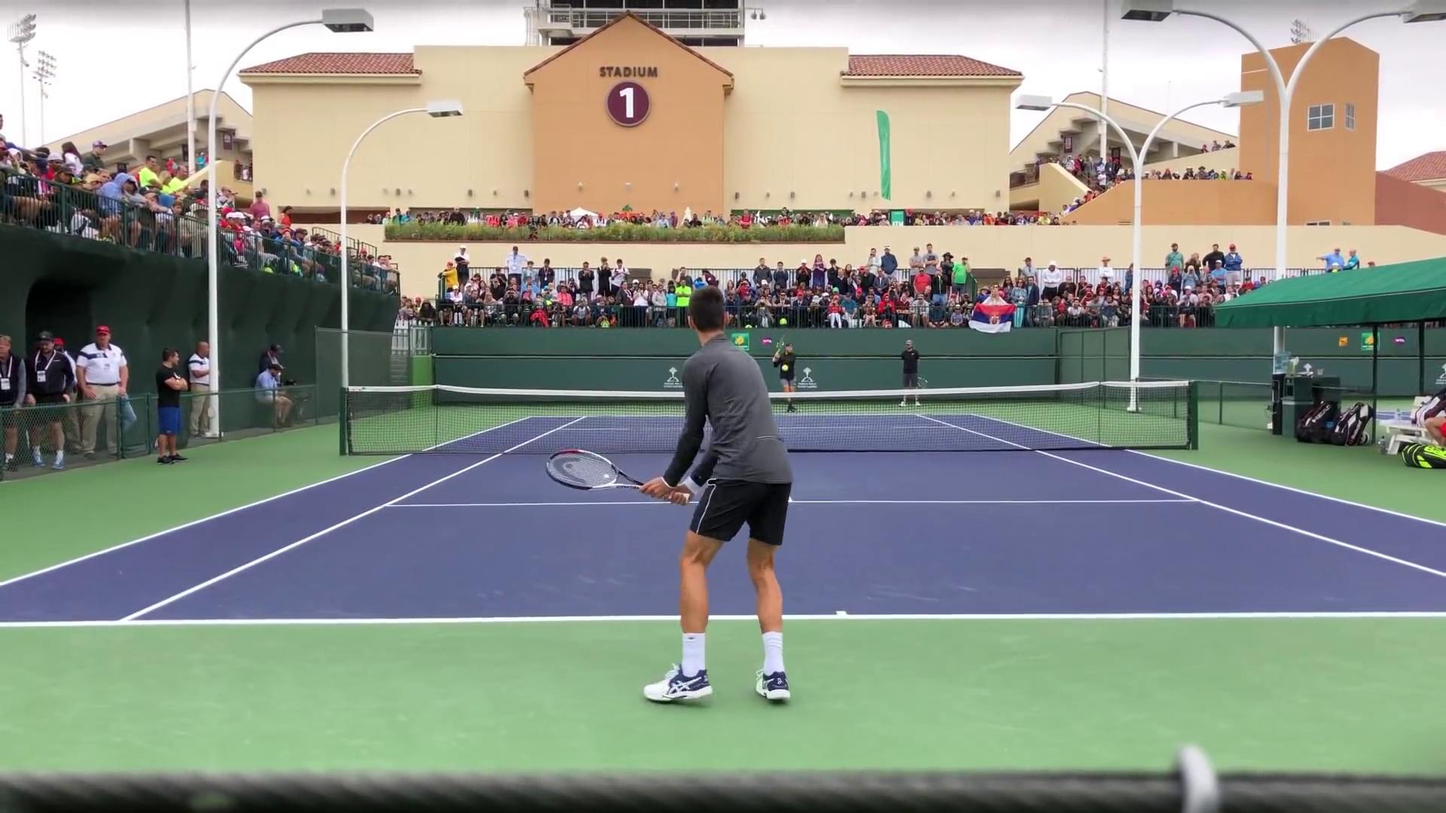ball: (779, 364, 792, 372)
